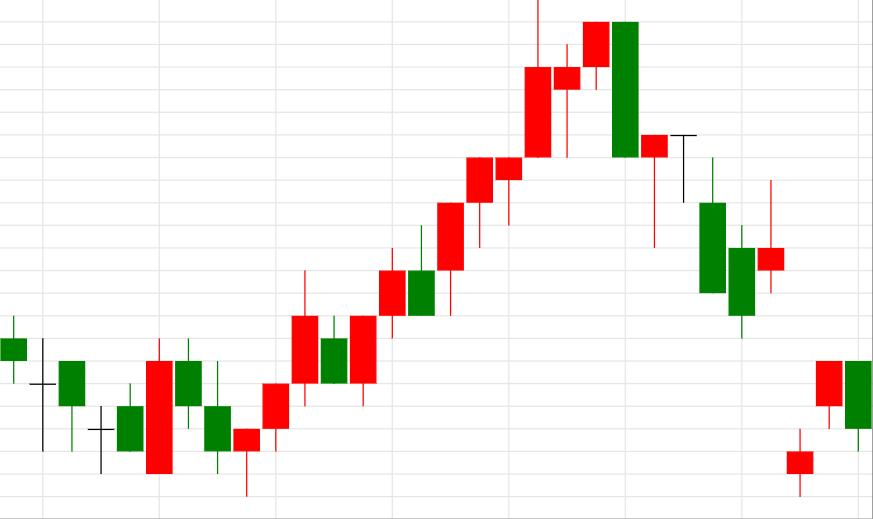bearish_engulfing_fall: (437, 0, 638, 317)
